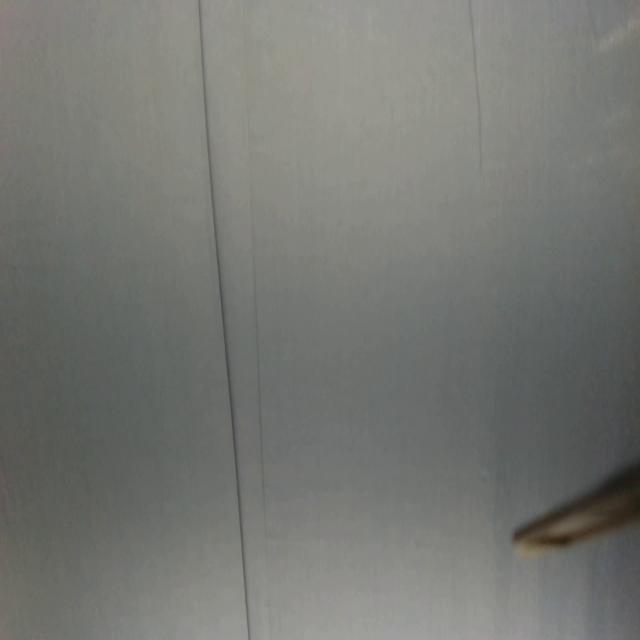crease: (197, 1, 251, 640), (251, 250, 271, 550), (464, 0, 486, 179)
